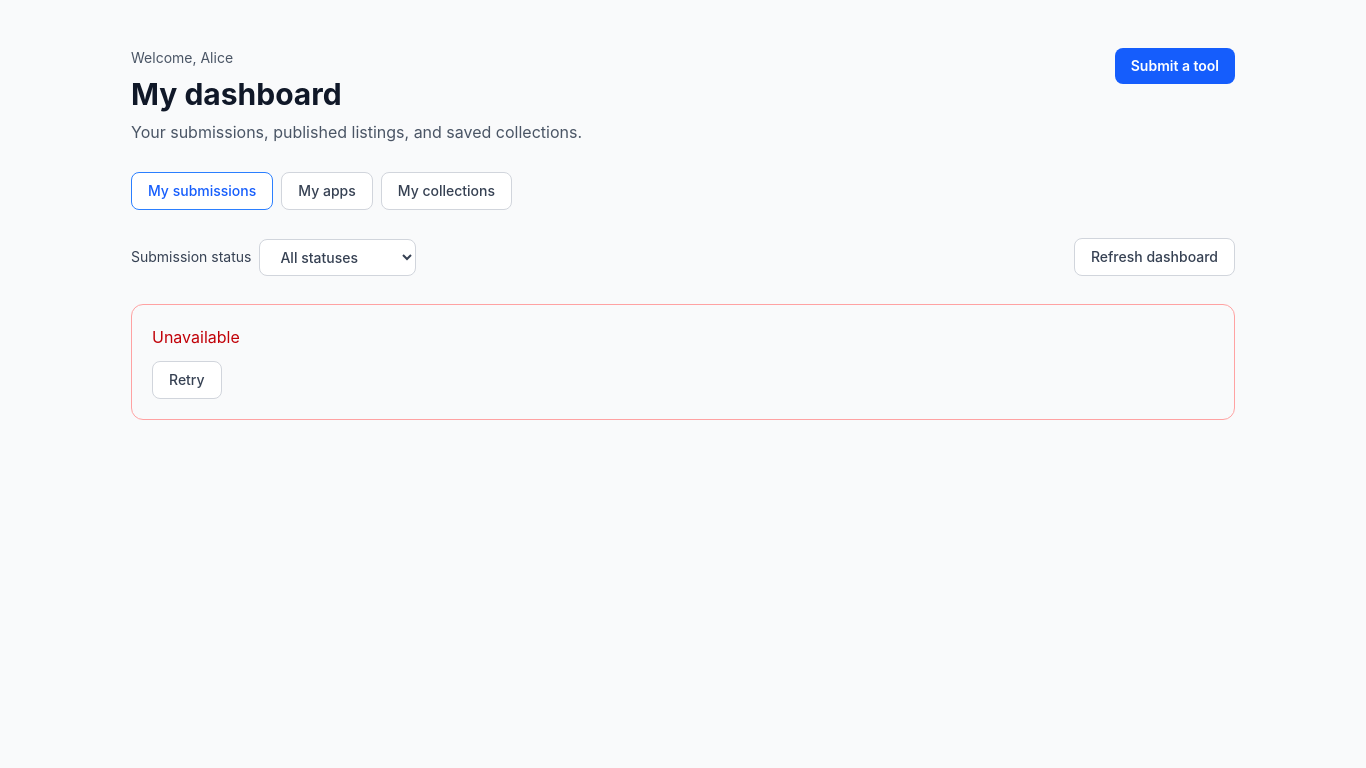
handles errors with retry, and does not fabricate metrics for older approvals
expect the message "Unavailable Retry" is shown: met, box [131,304,1235,420]
Click the button "Retry": coordinates (187, 380) [152,361,222,399]
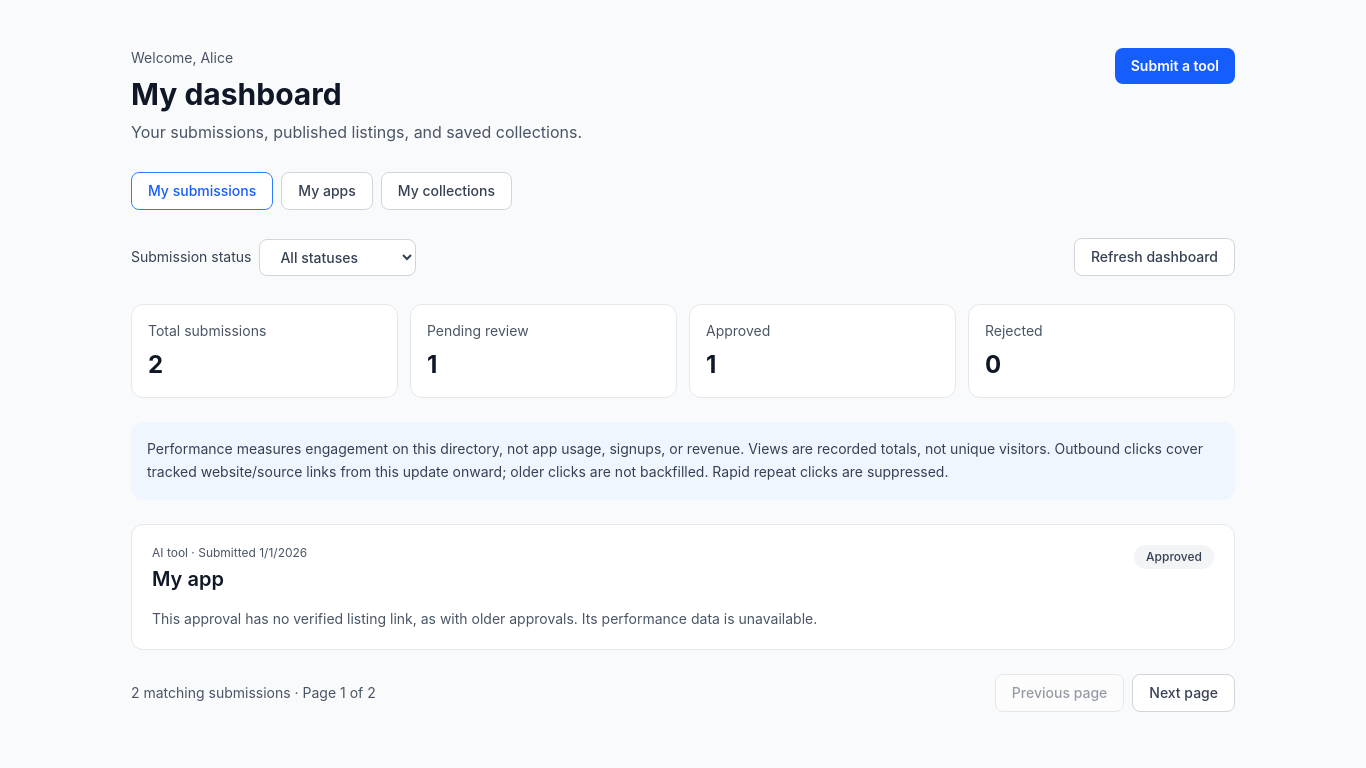
expect the text "older approval" is shown: met, box [152,610,817,626]
